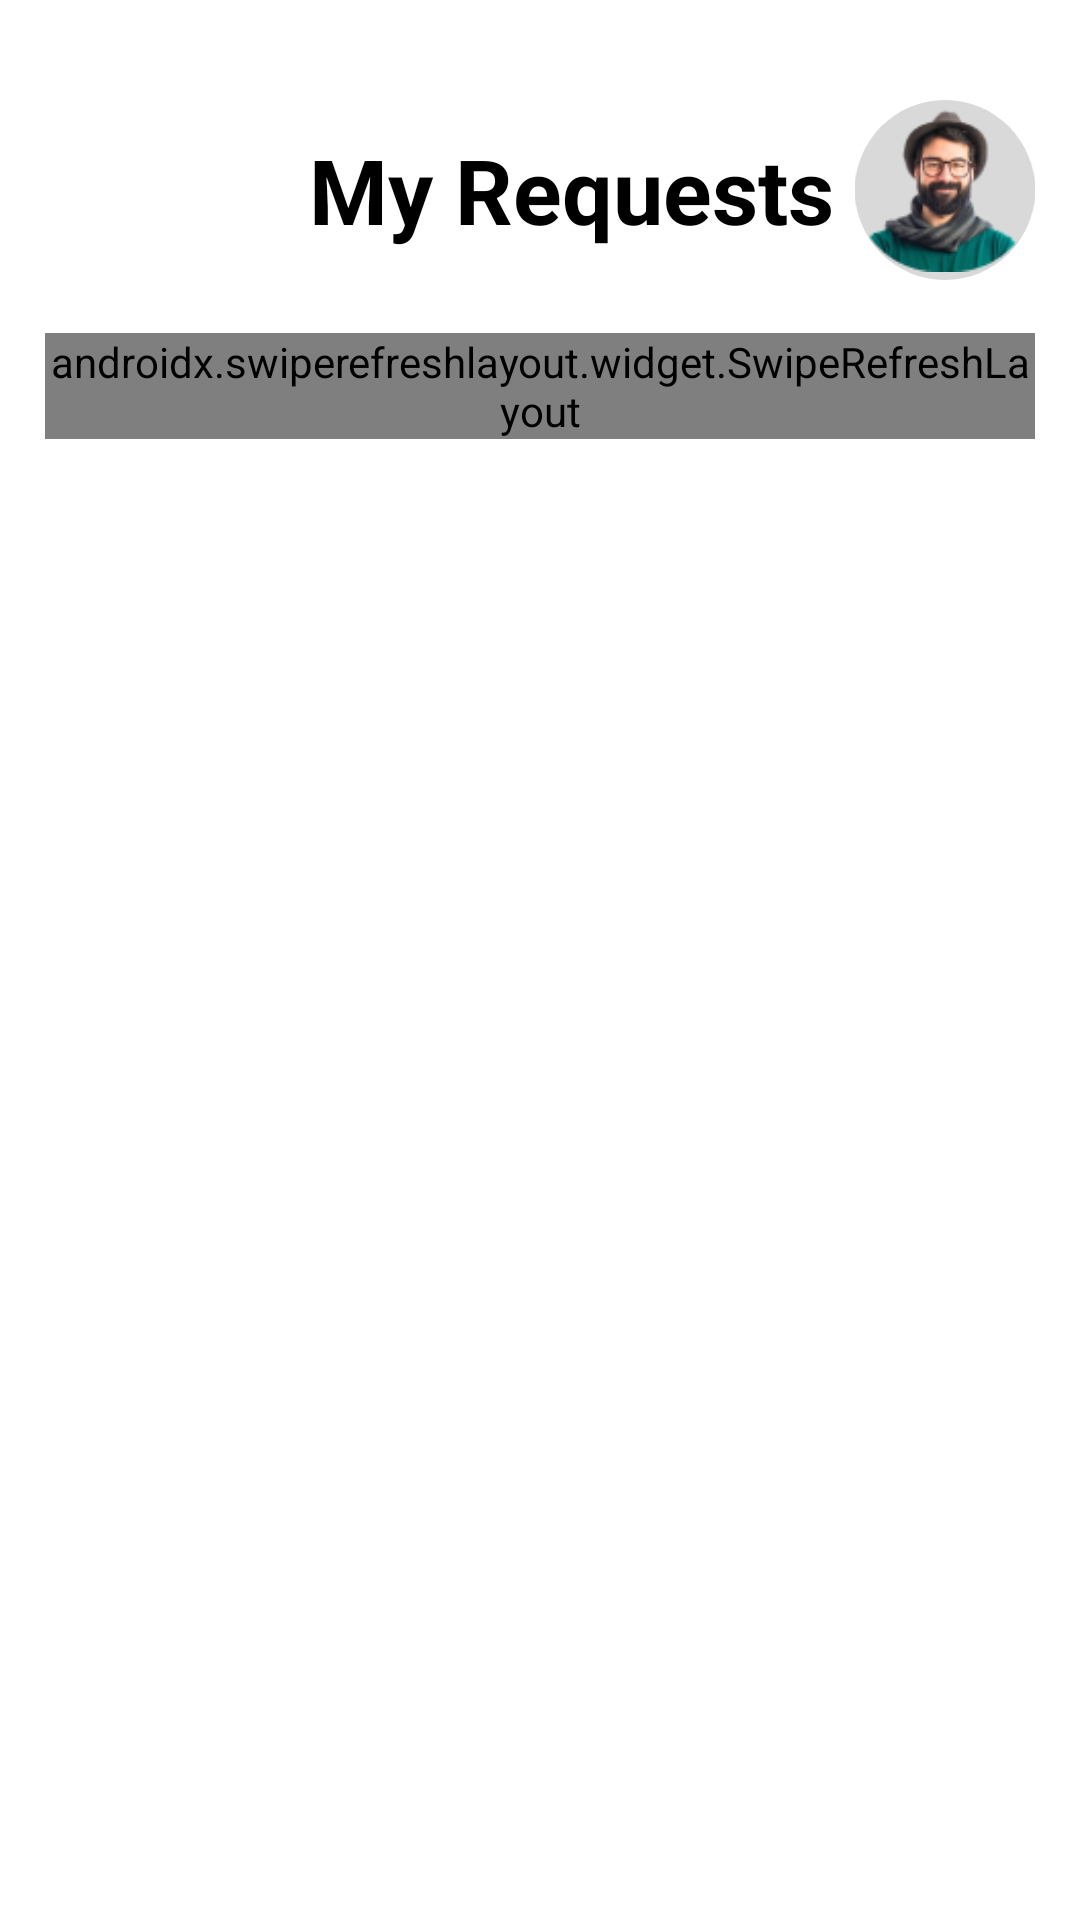

Screen size 1080*1920. Icon name, then its center in pixels as point (x, y):
profil: point (945, 190)
